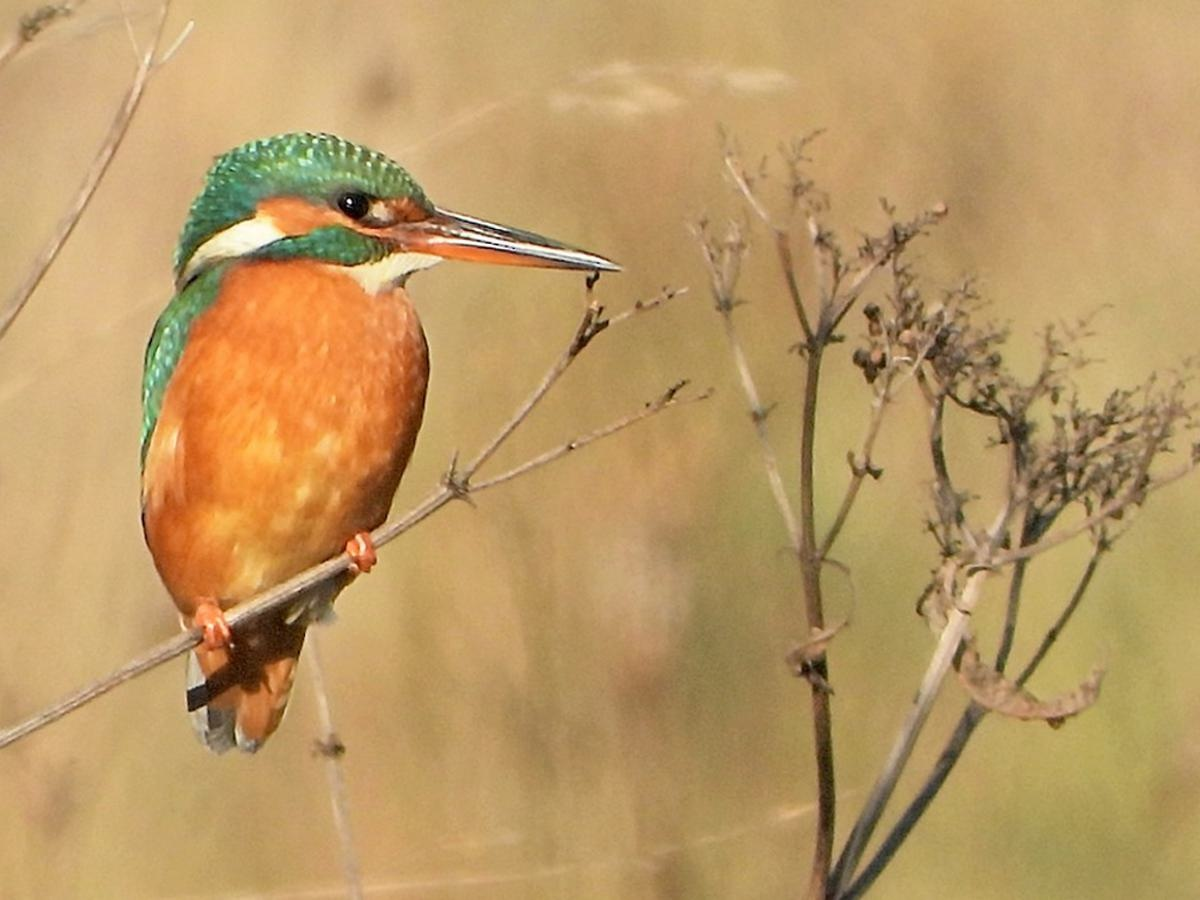kingfisher: (128, 114, 626, 767)
